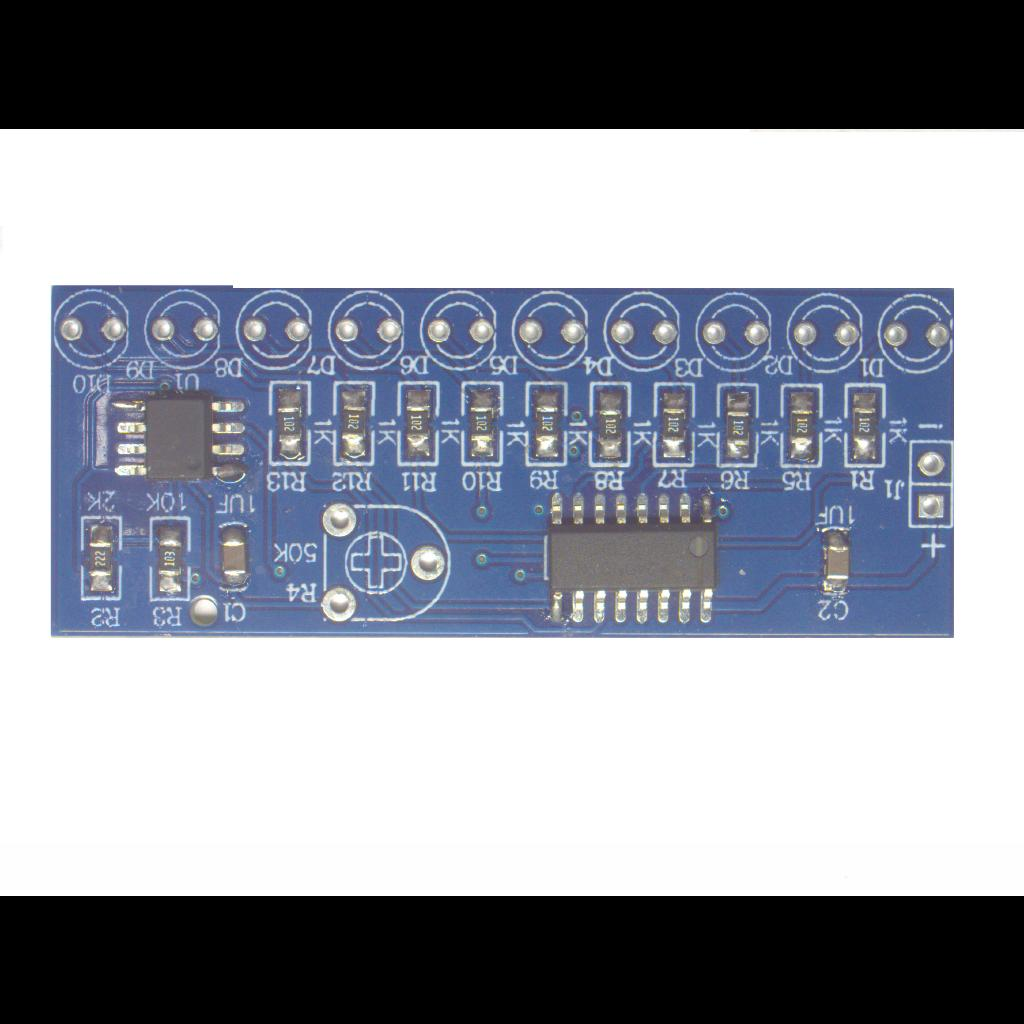OK: (542, 482, 726, 632), (106, 385, 256, 487), (650, 377, 698, 471), (714, 379, 762, 471), (268, 376, 314, 470), (586, 378, 634, 468), (330, 376, 376, 468), (396, 379, 442, 469), (78, 514, 124, 604), (460, 378, 506, 468), (842, 380, 888, 468), (779, 381, 825, 469), (146, 516, 192, 604), (525, 379, 569, 469), (818, 525, 856, 597), (218, 524, 250, 586)
